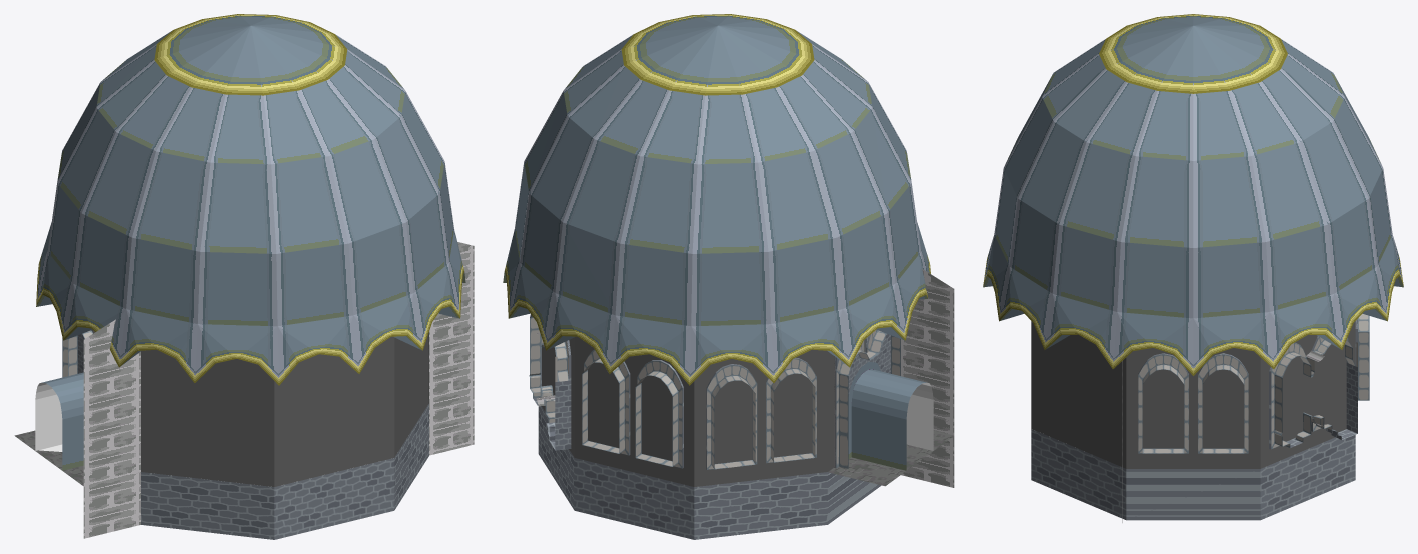
The model's file is gon_11.dae.
The picture shows the model from 3 angles, left to right: view 1: azimuth 30°, elevation 25°; view 2: azimuth 150°, elevation 25°; view 3: azimuth 270°, elevation 25°; orthographic projection. The views are drawn at different scales.
Parts seen in each view (by area): view 1: yane03, pCylinder37_q00011, pCylinder36_q00014_part0, polySurface886_q00027, polySurface885_q00019, polySurface917_q00028, polySurface917_q00008, polySurface927_q00018; view 2: yane03, pCylinder37_q00011, pCylinder36_q00014_part0, polySurface886_q00027, polySurface935_q00026_part1, polySurface917_q00028, polySurface930_q00022_part1, polySurface929_q00013_part1, polySurface935_q00026_part0, polySurface927_q00018, polySurface917_q00008, pCylinder37_q00012 (+1 smaller); view 3: yane03, pCylinder37_q00011, pCylinder36_q00014_part0, polySurface935_q00026_part1, polySurface936_part1, polySurface935_q00026_part0, yane02.
Boxes of the visible parts, bbox=[...] form: yane03: bbox=[36, 14, 463, 385]; pCylinder37_q00011: bbox=[141, 333, 428, 486]; pCylinder36_q00014_part0: bbox=[141, 404, 428, 539]; polySurface886_q00027: bbox=[83, 319, 140, 538]; polySurface885_q00019: bbox=[429, 242, 474, 455]; polySurface917_q00028: bbox=[41, 372, 83, 470]; polySurface917_q00008: bbox=[35, 382, 62, 450]; polySurface927_q00018: bbox=[14, 430, 83, 485]; yane03: bbox=[504, 14, 930, 385]; pCylinder37_q00011: bbox=[542, 336, 827, 486]; pCylinder36_q00014_part0: bbox=[538, 406, 881, 539]; polySurface886_q00027: bbox=[901, 269, 954, 487]; polySurface935_q00026_part1: bbox=[529, 314, 682, 468]; polySurface917_q00028: bbox=[851, 369, 927, 470]; polySurface930_q00022_part1: bbox=[707, 358, 816, 469]; polySurface929_q00013_part1: bbox=[836, 329, 900, 468]; polySurface935_q00026_part0: bbox=[533, 340, 683, 468]; polySurface927_q00018: bbox=[828, 430, 953, 486]; polySurface917_q00008: bbox=[906, 382, 933, 450]; pCylinder37_q00012: bbox=[828, 351, 834, 471]; yane03: bbox=[983, 14, 1403, 375]; pCylinder37_q00011: bbox=[1031, 321, 1355, 468]; pCylinder36_q00014_part0: bbox=[1031, 429, 1355, 520]; polySurface935_q00026_part1: bbox=[1271, 314, 1369, 449]; polySurface936_part1: bbox=[1138, 354, 1248, 453]; polySurface935_q00026_part0: bbox=[1269, 319, 1357, 449]; yane02: bbox=[983, 276, 1403, 349].
Size of the model in its own units: 154 by 166 by 149.
